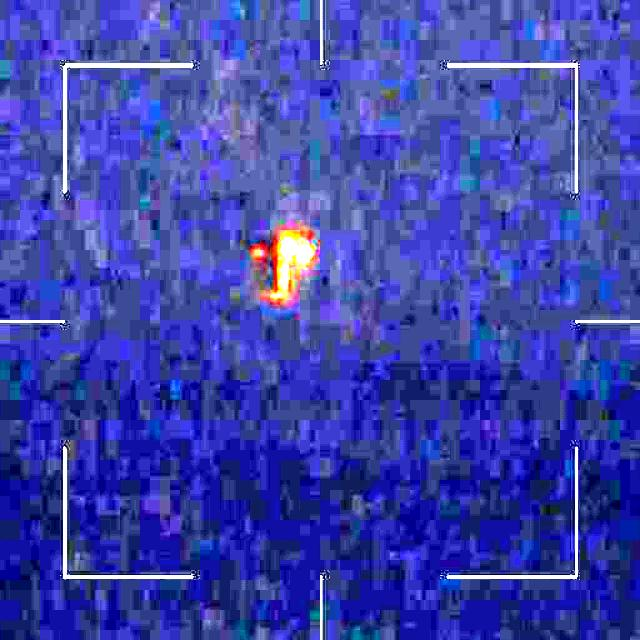bird: (242, 228, 319, 308)
